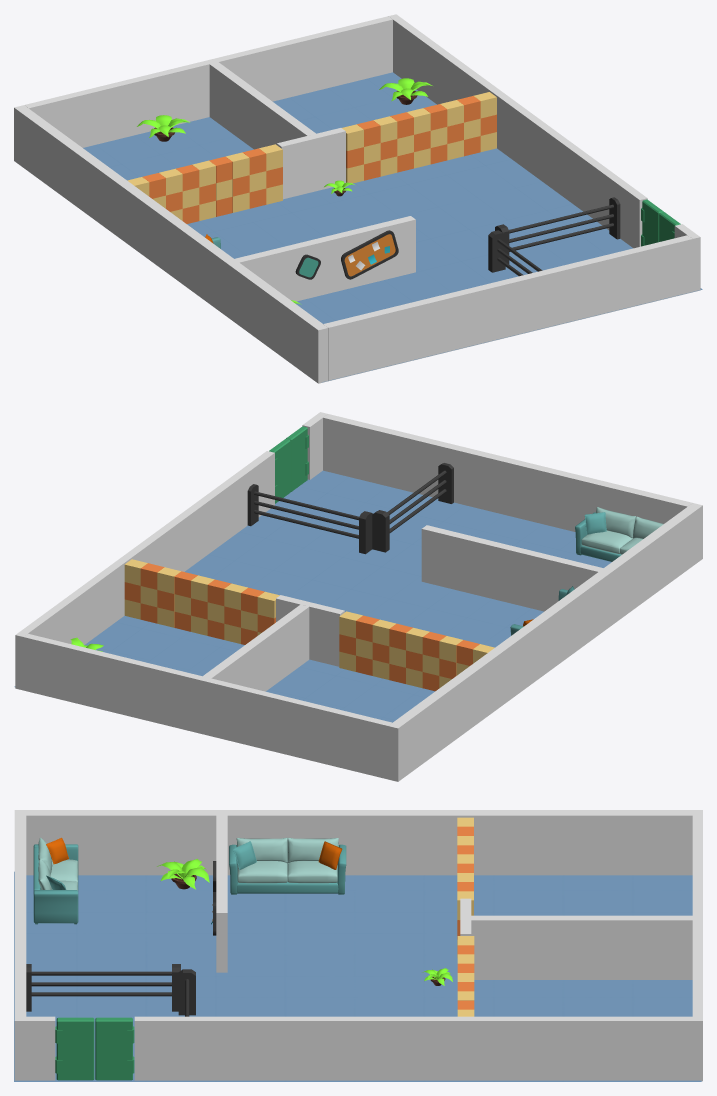
Rendered from maps_24.fbx.
3 renders of one model, top to bottom at view 1: azimuth 30°, elevation 25°; view 2: azimuth 150°, elevation 25°; view 3: azimuth 270°, elevation 25°, orthographic. The views are drawn at different scales.
Parts seen in each view (by area): view 1: wall_01_08_geo, wall_01_05_geo, wall_01_07_geo, wall_01_09_geo, wall_01_06_geo, wall_01_03_geo, wall_01_03_geo1, wall_01_02_geo, picture_2_geo, pCube3 (×2), polySurface161, wall_01_11_geo2 (+2 smaller); view 2: wall_01_08_geo, wall_01_09_geo, wall_01_07_geo, wall_01_05_geo, wall_01_06_geo, wall_01_03_geo, wall_01_03_geo1, sofa_geo1, wall_01_02_geo, pCube3 (×2), polySurface165, wall_01_11_geo2 (+1 smaller); view 3: wall_01_08_geo, wall_01_06_geo, wall_01_07_geo, wall_01_03_geo1, sofa_geo, sofa_geo1, wall_01_11_geo2, wall_01_05_geo, polySurface165, polySurface161, wall_01_09_geo, wall_01_03_geo (+6 smaller).
Boxes of the visible parts, x1=… form: wall_01_08_geo: x1=83, y1=72, x2=702, y2=382; wall_01_05_geo: x1=323, y1=235, x2=692, y2=381; wall_01_07_geo: x1=14, y1=105, x2=328, y2=383; wall_01_09_geo: x1=24, y1=16, x2=392, y2=147; wall_01_06_geo: x1=388, y1=14, x2=647, y2=248; wall_01_03_geo: x1=235, y1=216, x2=415, y2=301; wall_01_03_geo1: x1=209, y1=62, x2=315, y2=149; wall_01_02_geo: x1=277, y1=128, x2=345, y2=199; picture_2_geo: x1=341, y1=230, x2=398, y2=279; pCube3 (×2): x1=488, y1=197, x2=620, y2=272; polySurface161: x1=641, y1=199, x2=663, y2=246; wall_01_11_geo2: x1=674, y1=224, x2=700, y2=292; wall_01_08_geo: x1=14, y1=470, x2=611, y2=722; wall_01_09_geo: x1=23, y1=633, x2=392, y2=779; wall_01_07_geo: x1=388, y1=503, x2=702, y2=781; wall_01_05_geo: x1=323, y1=414, x2=692, y2=531; wall_01_06_geo: x1=15, y1=451, x2=274, y2=690; wall_01_03_geo: x1=421, y1=525, x2=603, y2=611; wall_01_03_geo1: x1=203, y1=604, x2=309, y2=691; sofa_geo1: x1=575, y1=507, x2=663, y2=561; wall_01_02_geo: x1=276, y1=595, x2=344, y2=666; pCube3 (×2): x1=247, y1=463, x2=453, y2=554; polySurface165: x1=286, y1=426, x2=308, y2=491; wall_01_11_geo2: x1=302, y1=412, x2=327, y2=479; wall_01_08_geo: x1=14, y1=871, x2=701, y2=1081; wall_01_06_geo: x1=134, y1=1016, x2=702, y2=1081; wall_01_07_geo: x1=14, y1=810, x2=702, y2=875; wall_01_03_geo1: x1=471, y1=915, x2=692, y2=979; sofa_geo: x1=229, y1=837, x2=346, y2=894; sofa_geo1: x1=33, y1=837, x2=78, y2=924; wall_01_11_geo2: x1=14, y1=1016, x2=55, y2=1080; wall_01_05_geo: x1=14, y1=815, x2=26, y2=1016; polySurface165: x1=55, y1=1017, x2=94, y2=1080; polySurface161: x1=95, y1=1017, x2=134, y2=1080; wall_01_09_geo: x1=692, y1=815, x2=702, y2=1016; wall_01_03_geo: x1=216, y1=815, x2=227, y2=972.
Size of the model in its own units: 66.8 by 9.04 by 91.75.
7 materials, 7 textured.
